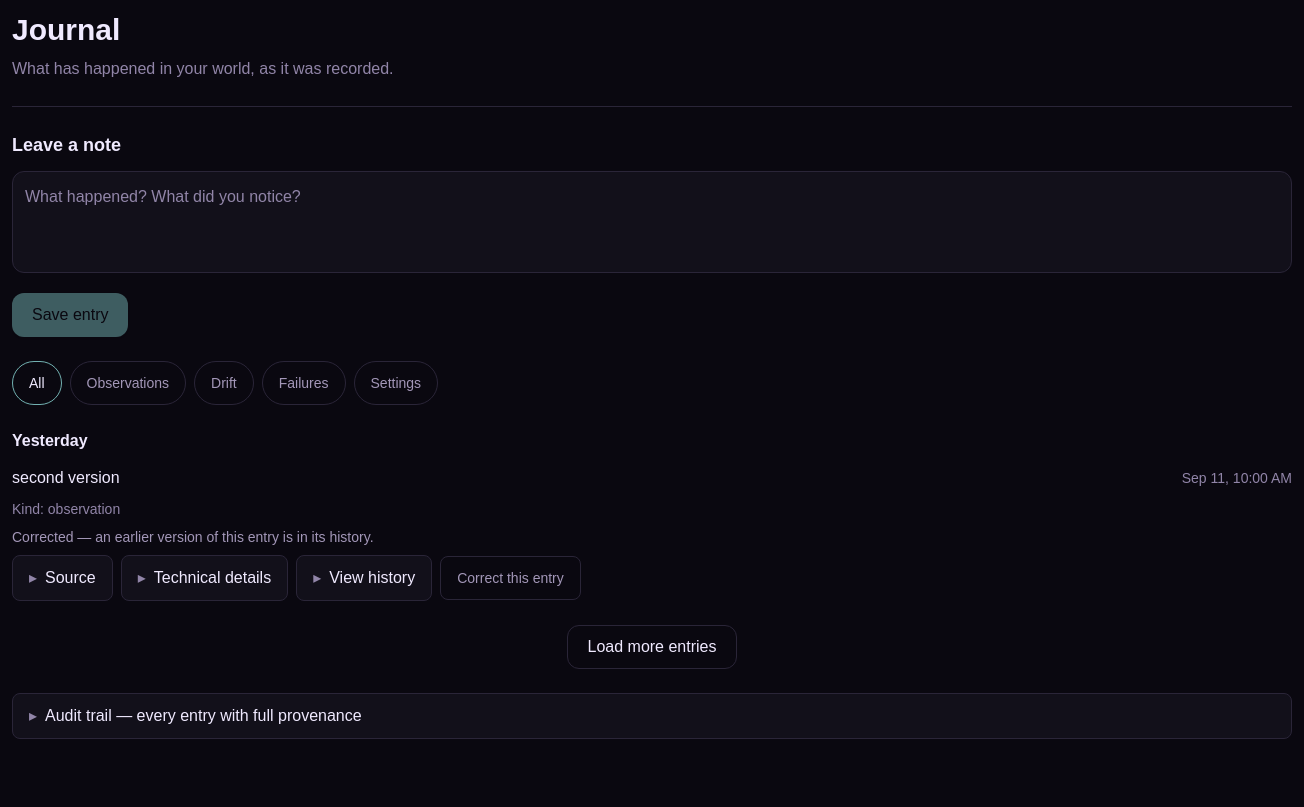
Journal correction workflow (propose → approve → act; original preserved) › corrected entries show the Corrected note and a history disclosure
Check: the text "second version" is shown, box [12,465,120,491]
Check: the text "Corrected — an earlier version" is shown, box [12,529,374,545]
Click the text "View history": (372, 578) [329,565,415,590]
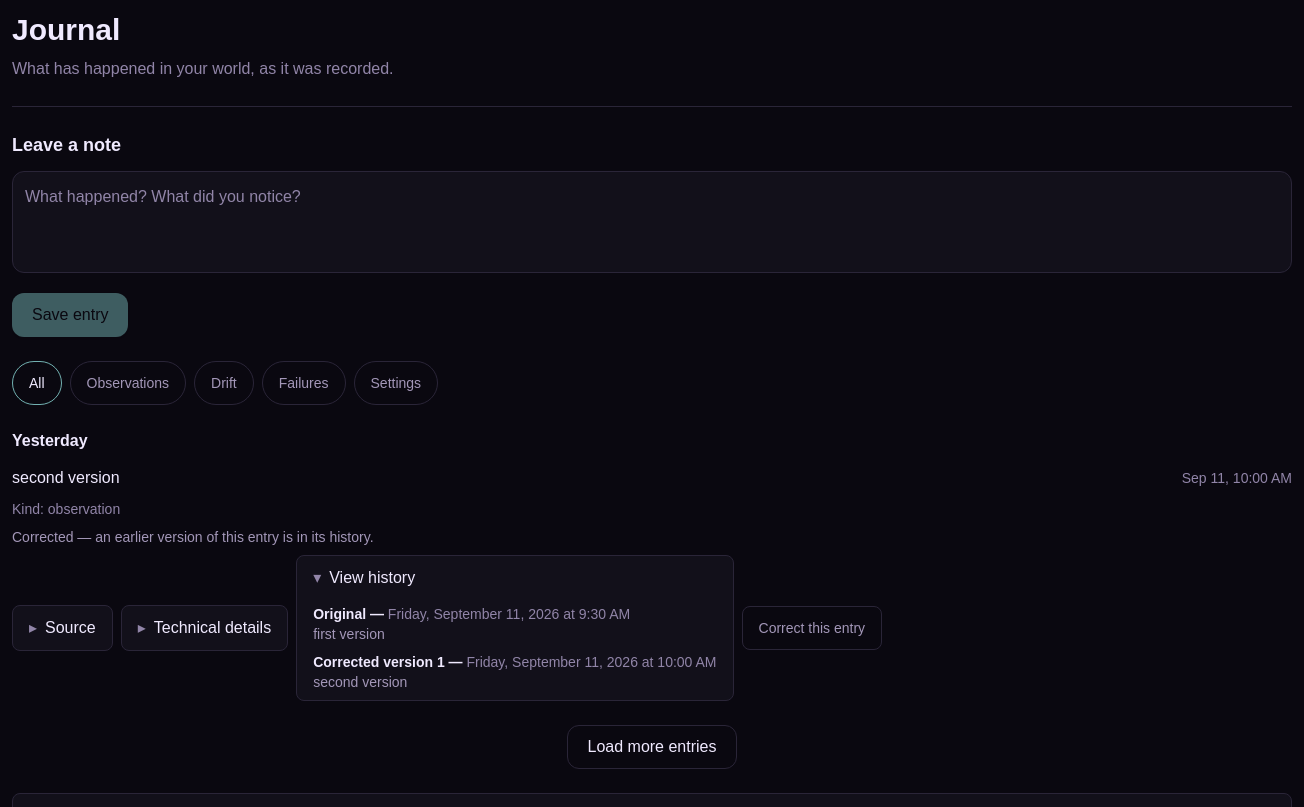
Check: the text "first version" is shown, box [313,626,385,642]
Check: the text "Original — Friday, September 11, 2026 at 9:30 AM" is shown, box [313,606,630,622]
Check: the text "Corrected version 1 — Friday, September 11, 2026 at 10:00 AM" is shown, box [313,652,717,672]
